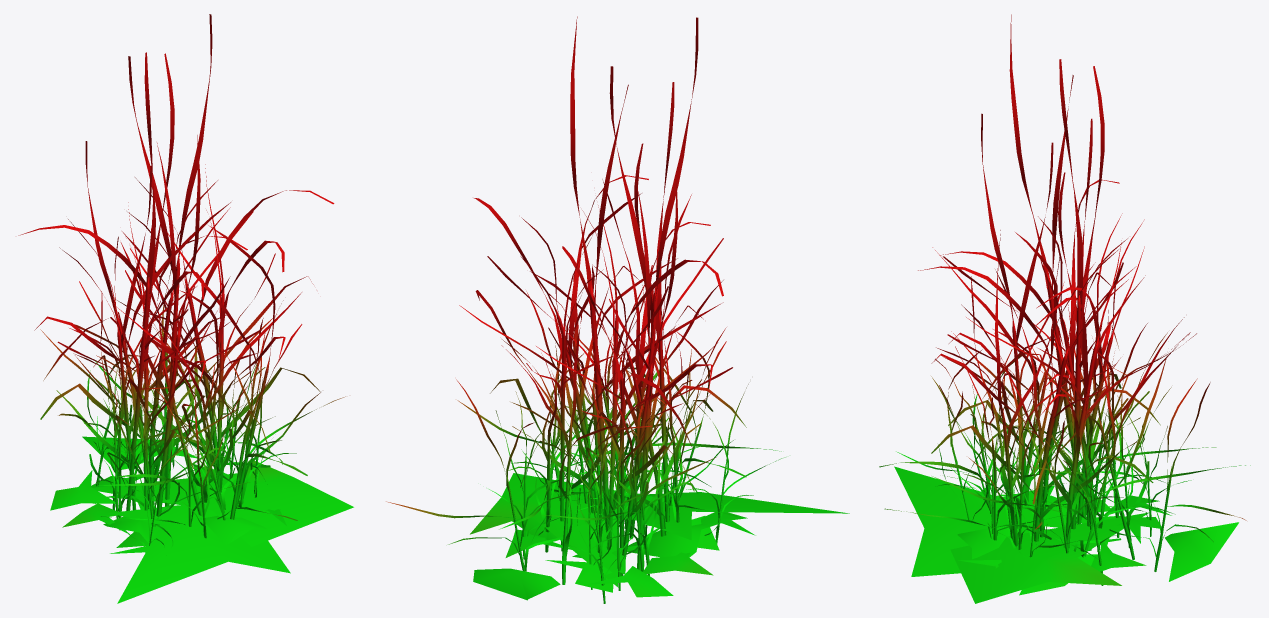
Rendered from Kikuyu Grass_LOD1_Var10_wiljearqx.fbx.
The picture shows the model from 3 angles, left to right: view 1: azimuth 30°, elevation 25°; view 2: azimuth 150°, elevation 25°; view 3: azimuth 270°, elevation 25°; orthographic projection. The views are drawn at different scales.
Visible parts, largest first — view 1: _zd7z_Var10_LOD1; view 2: _zd7z_Var10_LOD1; view 3: _zd7z_Var10_LOD1.
Boxes of the visible parts, x1=… form: _zd7z_Var10_LOD1: x1=18, y1=14, x2=353, y2=603; _zd7z_Var10_LOD1: x1=386, y1=16, x2=849, y2=603; _zd7z_Var10_LOD1: x1=879, y1=14, x2=1250, y2=603.
Size of the model in its own units: 33.79 by 54.06 by 35.69.
